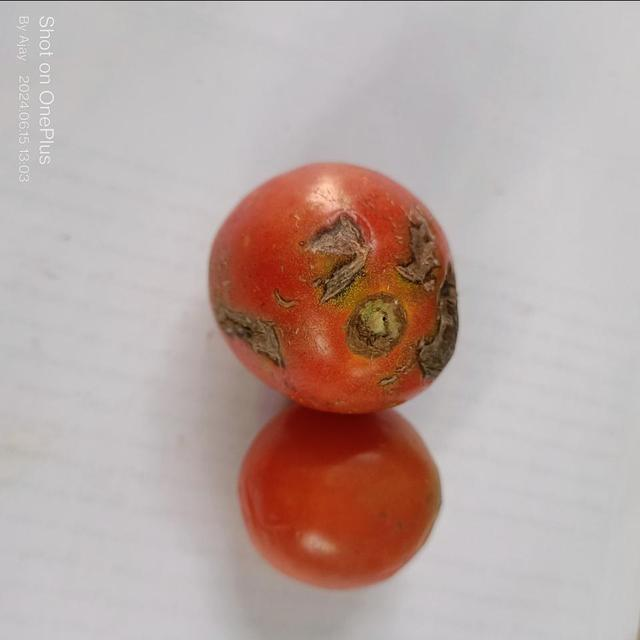Bacterial Spot Fruit: (12, 6, 297, 253)
